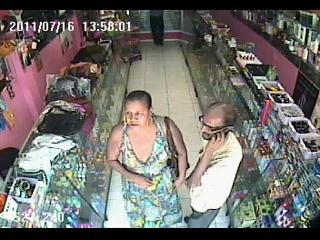Normal: (104, 90, 190, 228), (184, 102, 243, 228), (149, 10, 165, 46)
